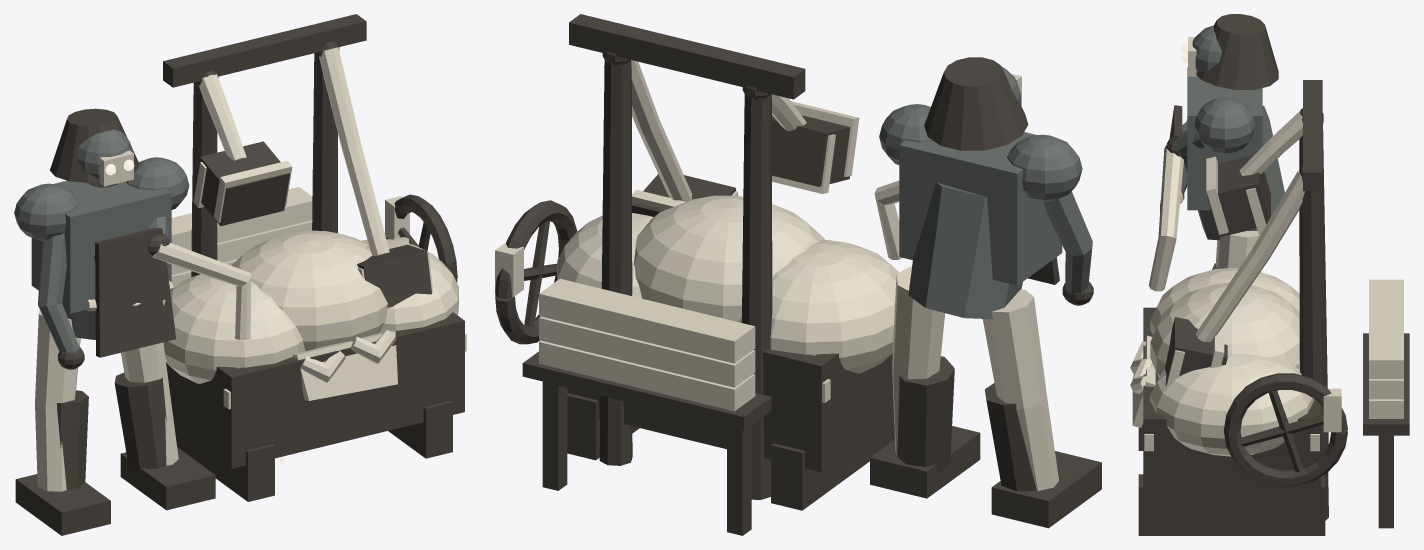
File: fuller.glb
3 views of the same model, side by side, from view 1: azimuth 30°, elevation 25°; view 2: azimuth 150°, elevation 25°; view 3: azimuth 270°, elevation 25° (orthographic). The views are drawn at different scales.
Visible parts, largest first — view 1: fuller_dark, fuller_bone, fuller_body; view 2: fuller_dark, fuller_bone, fuller_body; view 3: fuller_dark, fuller_bone, fuller_body.
Boxes of the visible parts, x1=… form: fuller_dark: x1=15, y1=14, x2=464, y2=535; fuller_bone: x1=35, y1=47, x2=466, y2=491; fuller_body: x1=14, y1=129, x2=189, y2=352; fuller_dark: x1=495, y1=14, x2=1101, y2=535; fuller_bone: x1=495, y1=60, x2=1058, y2=490; fuller_body: x1=879, y1=66, x2=1092, y2=319; fuller_dark: x1=1138, y1=14, x2=1409, y2=535; fuller_bone: x1=1130, y1=37, x2=1403, y2=456; fuller_body: x1=1174, y1=25, x2=1284, y2=240.
Bounding box in the file's own units: 3.29 × 2.66 × 1.84.
